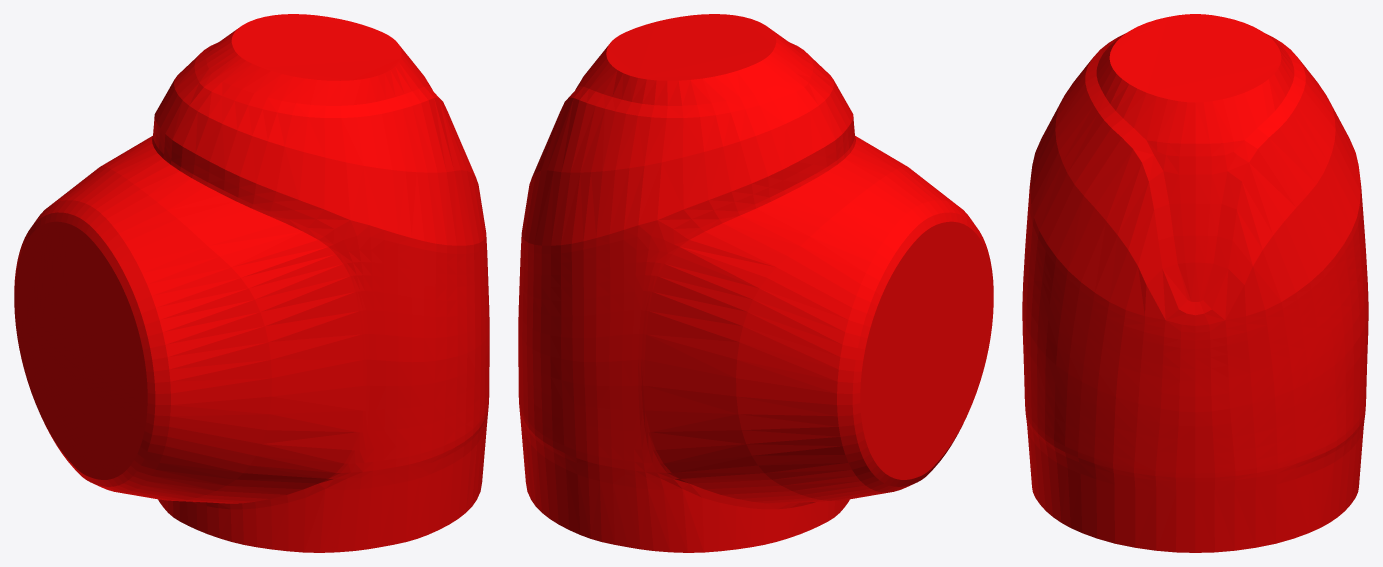
3 renders of one model, left to right at view 1: azimuth 30°, elevation 25°; view 2: azimuth 150°, elevation 25°; view 3: azimuth 270°, elevation 25°, orthographic.
Parts seen in each view (by area): view 1: MF1509_2_2; view 2: MF1509_2_2; view 3: MF1509_2_2.
Boxes of the visible parts, x1,y1,x2,y2 form: MF1509_2_2: (14, 14, 489, 552); MF1509_2_2: (518, 14, 993, 552); MF1509_2_2: (1022, 14, 1368, 552).
Bounding box in the file's own units: 176 × 139 × 193.
